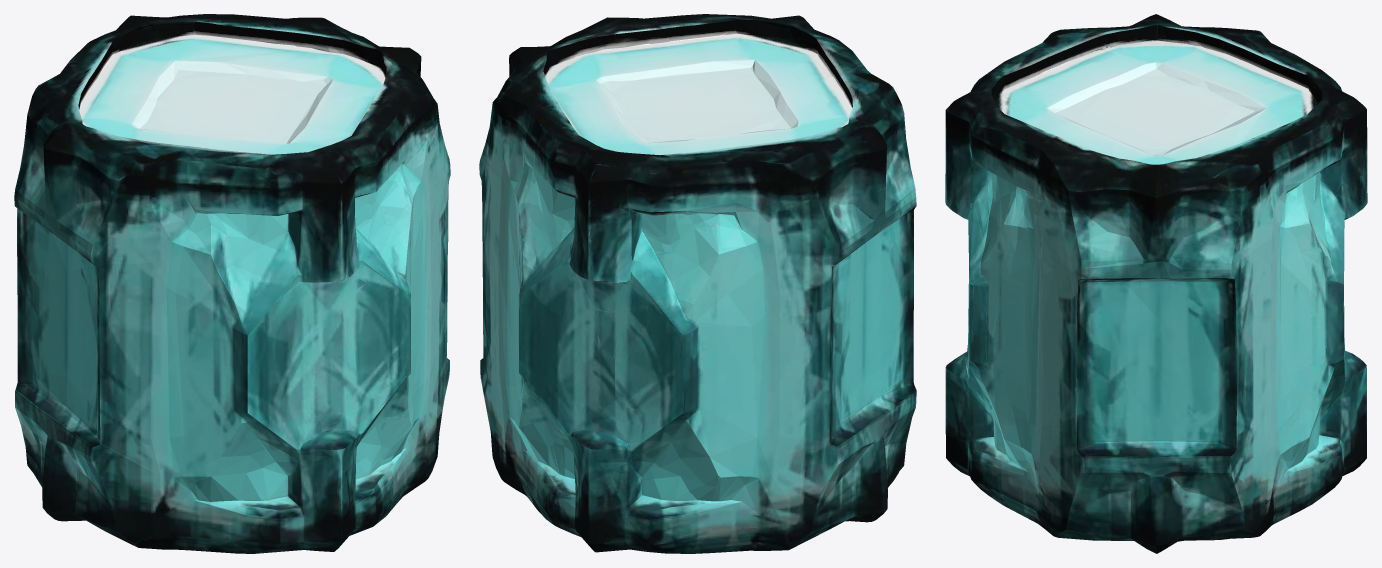
File: pickup_boost_cell.glb
3 views of the same model, side by side, from view 1: azimuth 30°, elevation 25°; view 2: azimuth 150°, elevation 25°; view 3: azimuth 270°, elevation 25° (orthographic). The views are drawn at different scales.
Visible parts, largest first — view 1: boost_cell_mesh; view 2: boost_cell_mesh; view 3: boost_cell_mesh.
Boxes of the visible parts, x1,y1,x2,y2 form: boost_cell_mesh: (14, 14, 450, 553); boost_cell_mesh: (479, 14, 916, 553); boost_cell_mesh: (945, 14, 1367, 553).
Size of the model in its own units: 0.9989 by 0.9978 by 1.
1 material, 1 textured.
